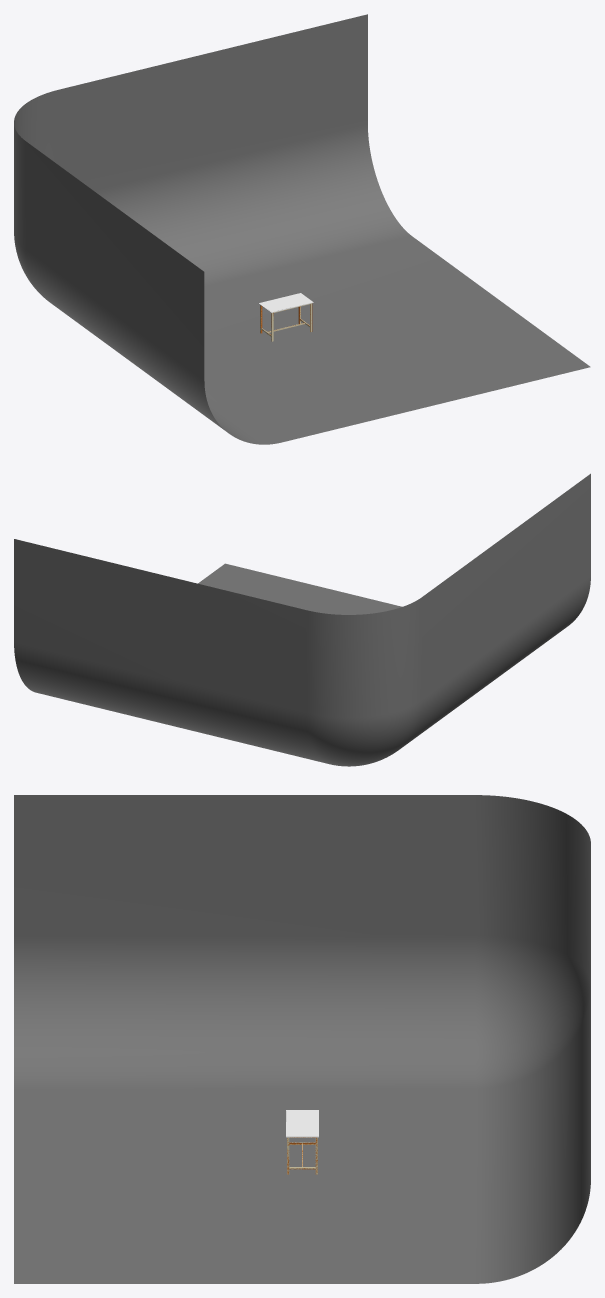
The model's file is sDesk.fbx.
3 renders of one model, top to bottom at view 1: azimuth 30°, elevation 25°; view 2: azimuth 150°, elevation 25°; view 3: azimuth 270°, elevation 25°, orthographic. The views are drawn at different scales.
Visible parts, largest first — view 1: Plane, Table_highpoly; view 2: Plane; view 3: Plane, Table_highpoly, Table_lowpoly.
Part boxes in pixels (x1=…): Plane: x1=14, y1=14, x2=590, y2=444; Table_highpoly: x1=258, y1=293, x2=313, y2=341; Plane: x1=14, y1=473, x2=590, y2=766; Plane: x1=14, y1=795, x2=590, y2=1283; Table_highpoly: x1=286, y1=1121, x2=318, y2=1174; Table_lowpoly: x1=286, y1=1110, x2=318, y2=1174.
Bounding box in the file's own units: 1041 × 488 × 1041.
4 materials, 1 textured.
